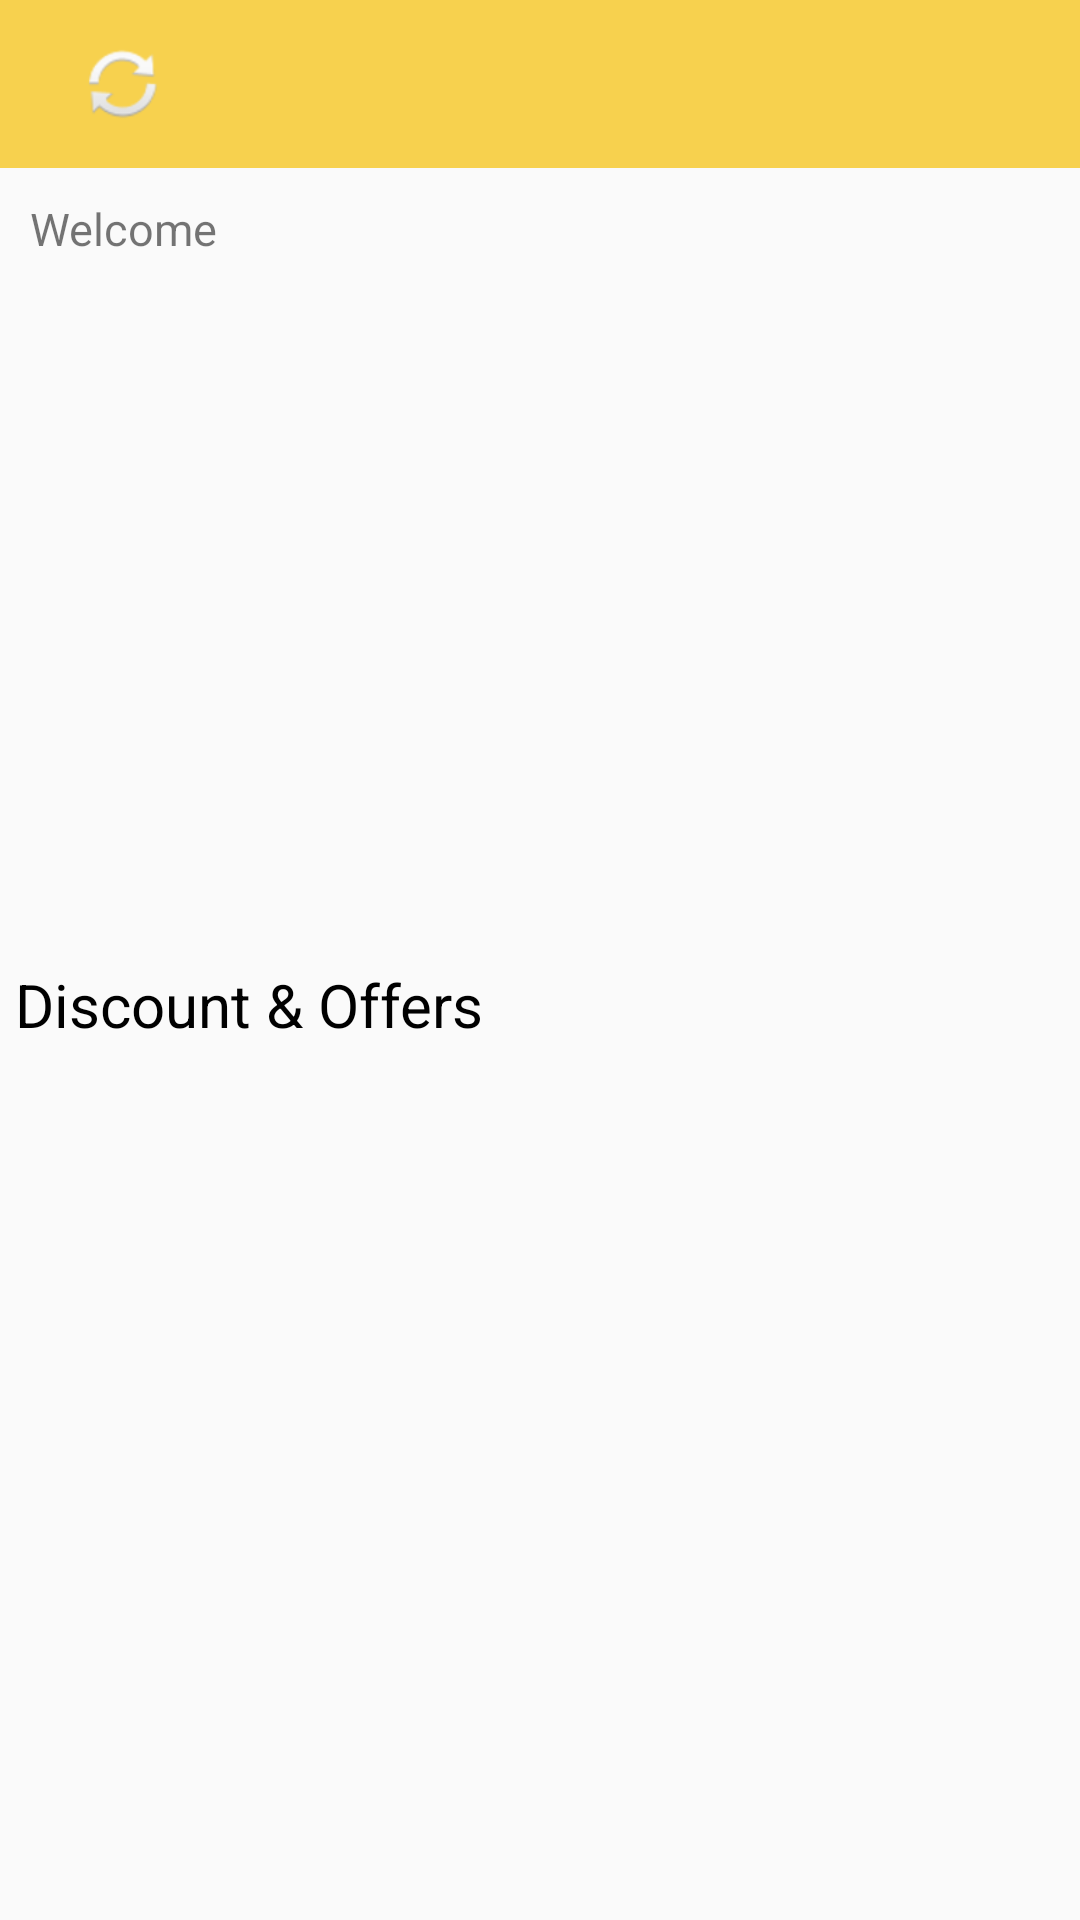

Point at icon controls on the screen. Image size 1080x1920, points as (x,y).
popup sync: (123,83)
